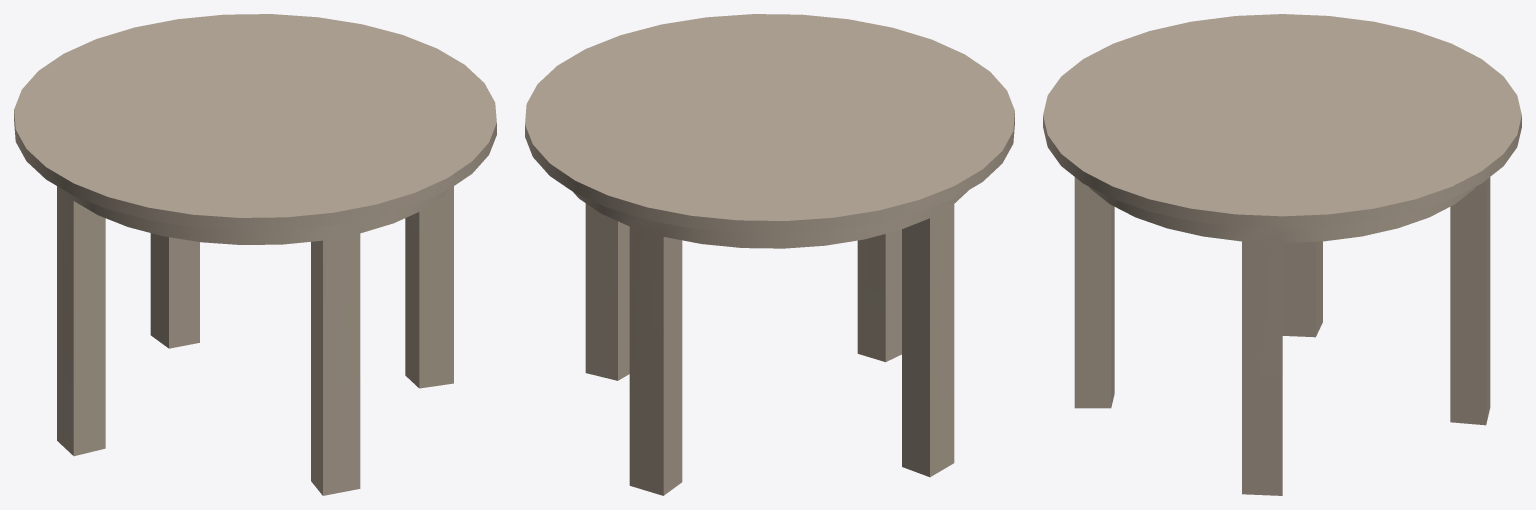
Rendered from TableRonde_10.fbx.
3 views of the same model, side by side, from view 1: azimuth 30°, elevation 25°; view 2: azimuth 150°, elevation 25°; view 3: azimuth 270°, elevation 25° (orthographic). The views are drawn at different scales.
Parts seen in each view (by area): view 1: pCylinder1771; view 2: pCylinder1771; view 3: pCylinder1771.
Boxes of the visible parts, <box> form: pCylinder1771: <box>14,14,496,495</box>; pCylinder1771: <box>525,14,1014,495</box>; pCylinder1771: <box>1043,14,1521,495</box>.
Bounding box in the file's own units: 45.25 × 30.55 × 45.25.
